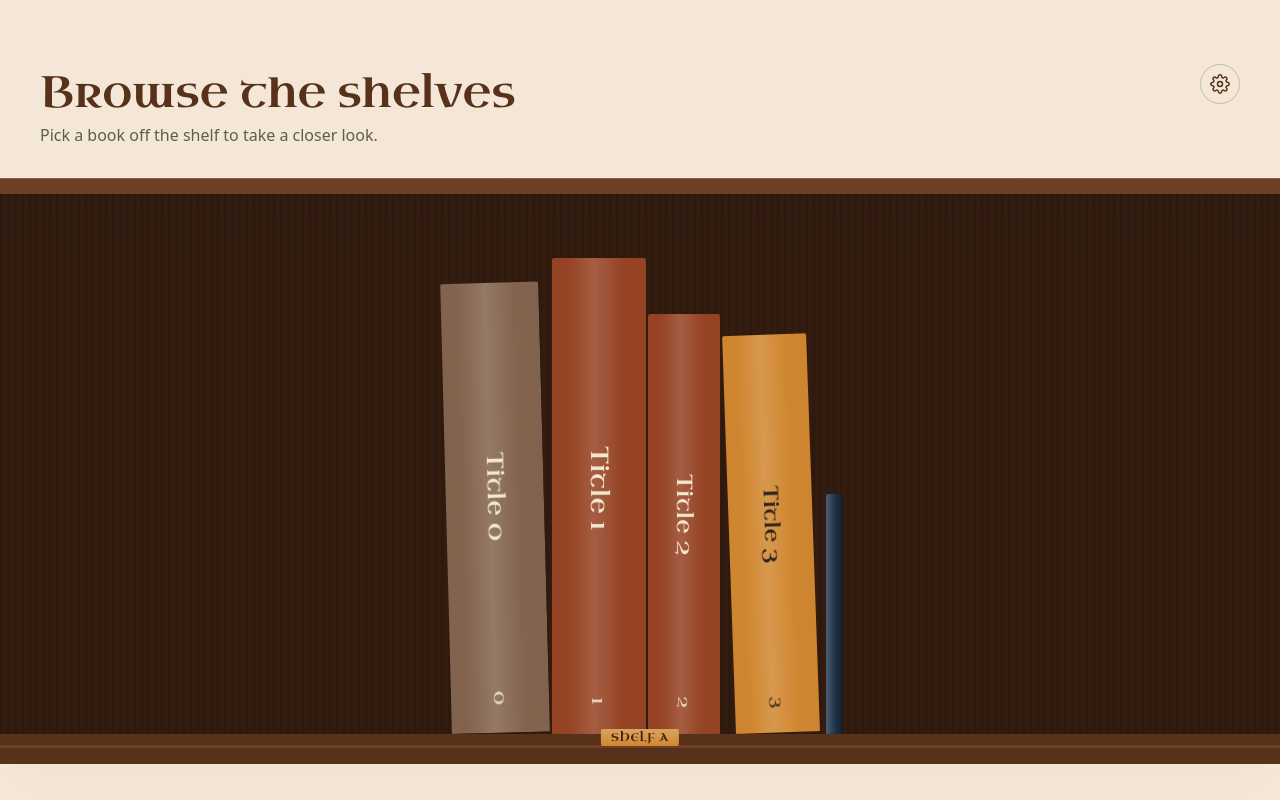
Test: data from a catalogue › formats prices with formatPrice
Click the button named "Title 1 by Author 1, 11,00 €": x=599, y=496 [552,258,646,734]
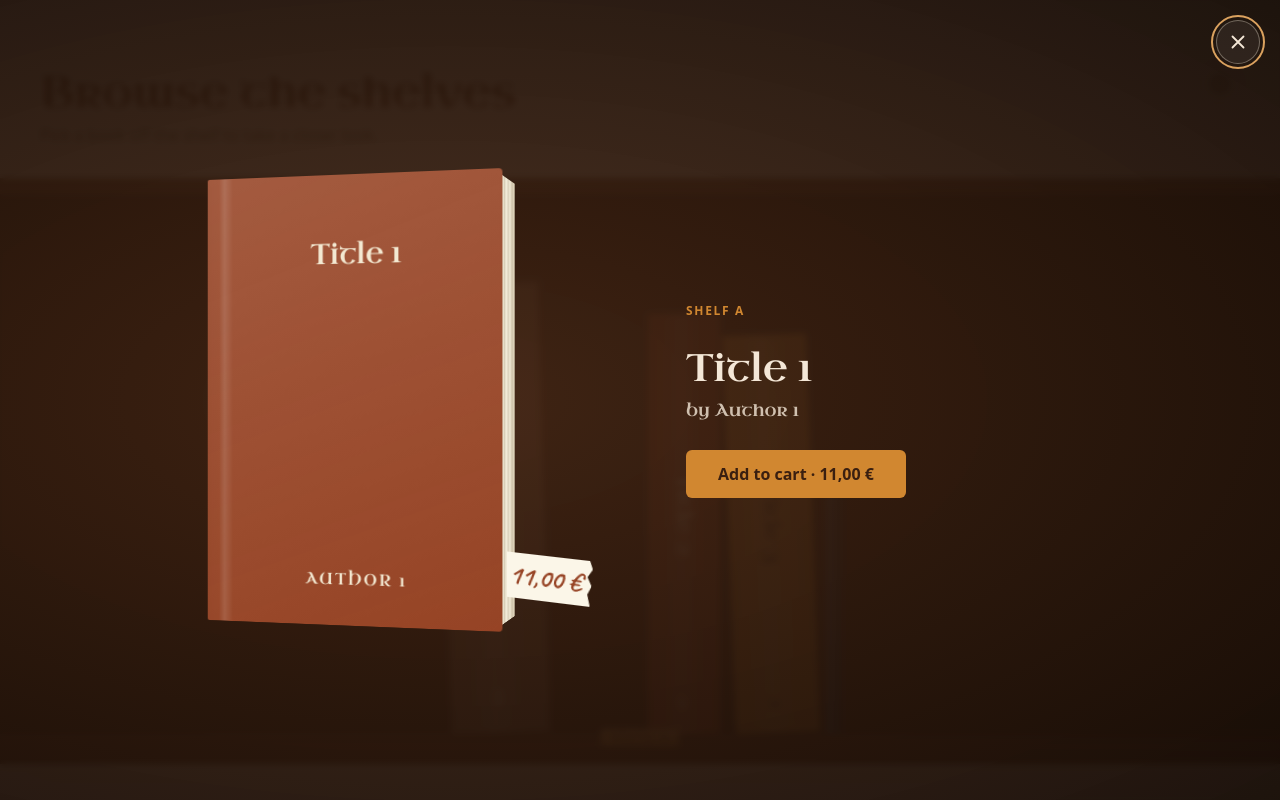
Now the heading "Title 1" is shown, box [686,343,813,394]
